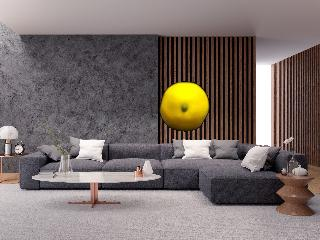lemon: (160, 82, 209, 130)
